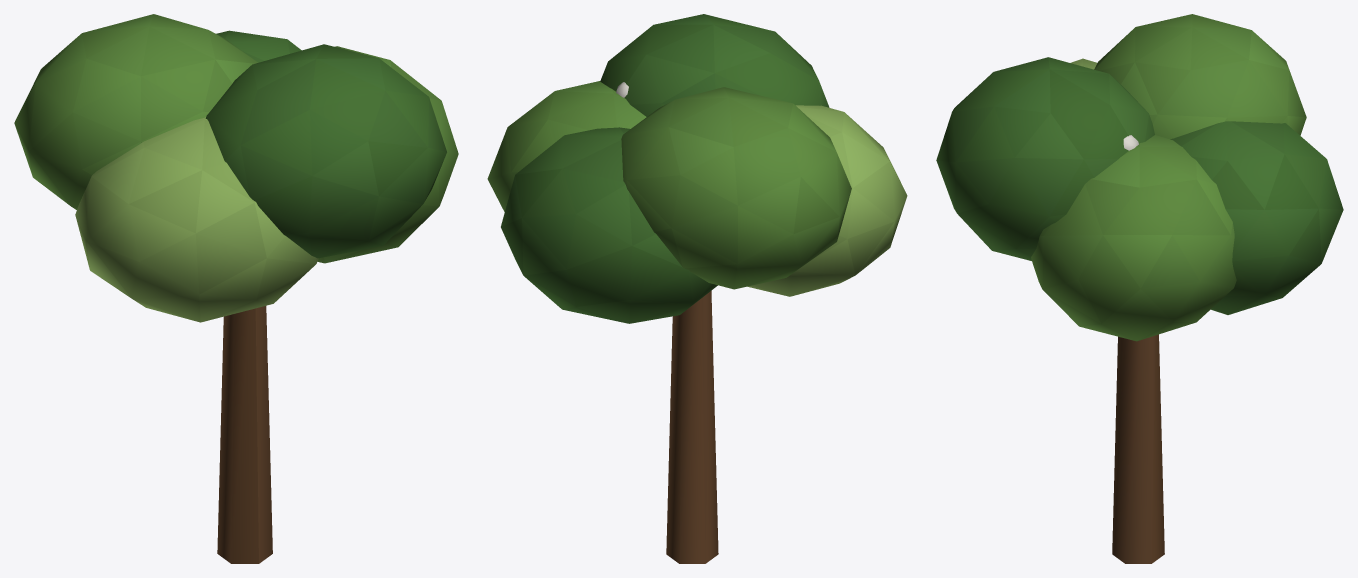
Rendered from crop-lime-flowering.glb.
3 views of the same model, side by side, from view 1: azimuth 30°, elevation 25°; view 2: azimuth 150°, elevation 25°; view 3: azimuth 270°, elevation 25° (orthographic). The views are drawn at different scales.
Parts seen in each view (by area): view 1: crop-lime-flowering-kit; view 2: crop-lime-flowering-kit; view 3: crop-lime-flowering-kit.
Part boxes in pixels (<box>): crop-lime-flowering-kit: <box>14,14,458,563</box>; crop-lime-flowering-kit: <box>487,14,907,563</box>; crop-lime-flowering-kit: <box>936,14,1343,563</box>.
Bounding box in the file's own units: 0.8078 × 1.04 × 0.7735.
